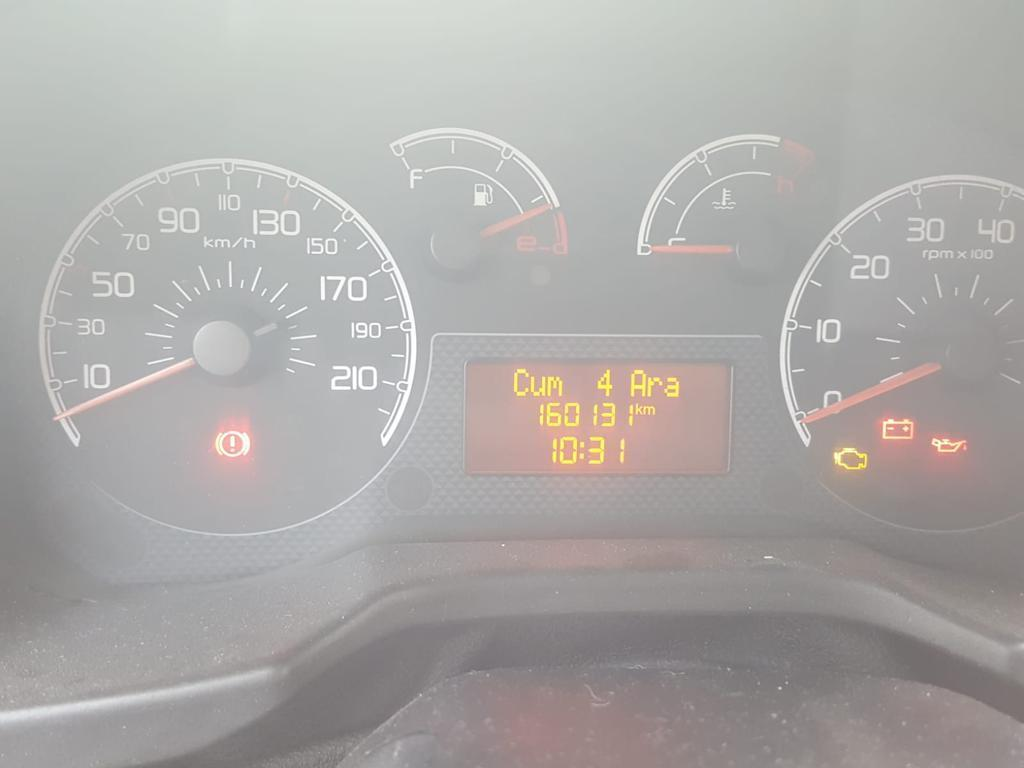0: (558, 434, 576, 464), (562, 400, 581, 427)
1: (615, 434, 628, 463), (547, 436, 558, 464), (587, 400, 598, 426), (534, 401, 545, 426), (623, 401, 633, 428)
3: (586, 434, 604, 465), (599, 400, 616, 428)
4: (594, 366, 613, 397)
6: (545, 400, 562, 427)
X: (510, 366, 529, 398), (628, 367, 646, 398), (662, 375, 681, 399), (527, 373, 545, 397), (646, 373, 662, 399), (545, 374, 562, 397), (577, 438, 586, 461), (642, 404, 656, 415), (634, 399, 642, 415)
odometer: (461, 354, 734, 477)
